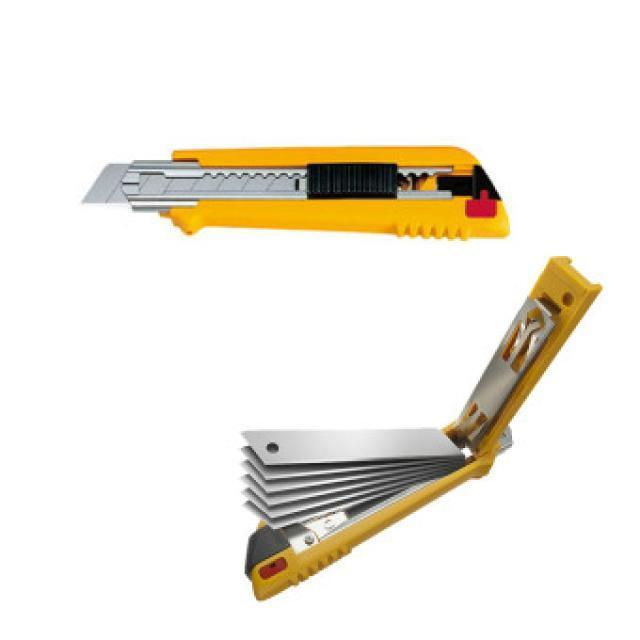cutter: (73, 126, 514, 252)
